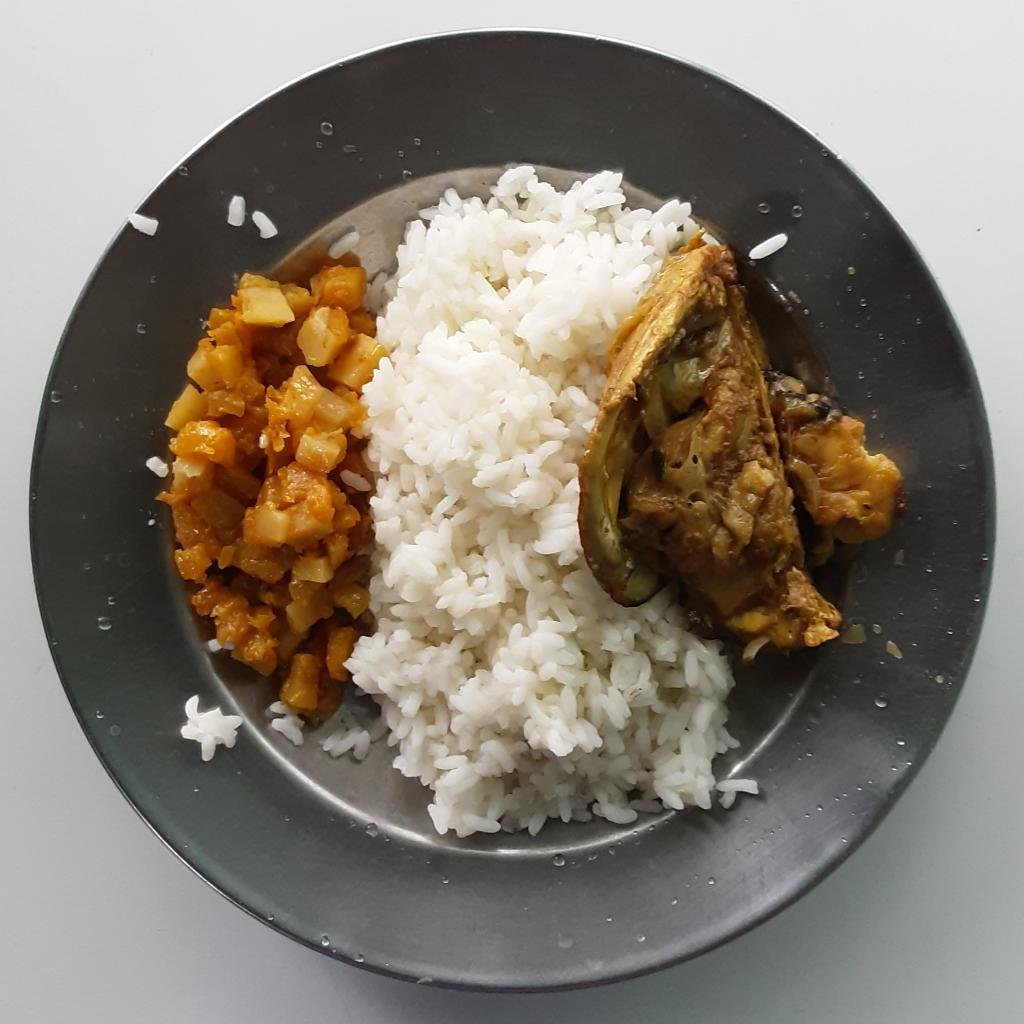fish: (579, 233, 909, 651)
kumra-vaji: (156, 267, 386, 716)
rice: (320, 164, 755, 842)
